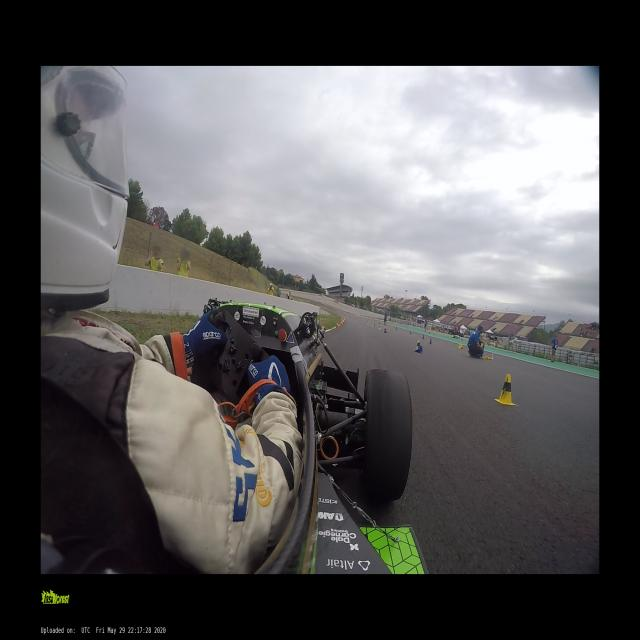blue_cone: (413, 346, 422, 354), (428, 338, 432, 344), (383, 328, 387, 333), (422, 334, 425, 339), (395, 326, 397, 331)
orange_cone: (336, 322, 338, 329), (340, 320, 342, 326), (322, 325, 324, 328)
yellow_cone: (494, 374, 515, 406), (457, 344, 463, 350), (378, 324, 381, 330), (417, 341, 420, 346), (372, 322, 374, 326), (409, 330, 411, 334)
